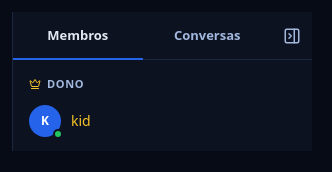
Test: SideDock › minimiza e abre de novo, e cada tela lembra o seu jeito
Later steps or results of the test are not shown.
Step 1. Click the button named "Minimizar lateral" → (292, 36), box [272,12,312,60]
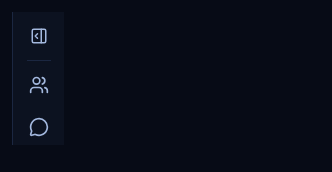
Now the element named "Lateral minimizada" is shown, box [12,12,64,145]
